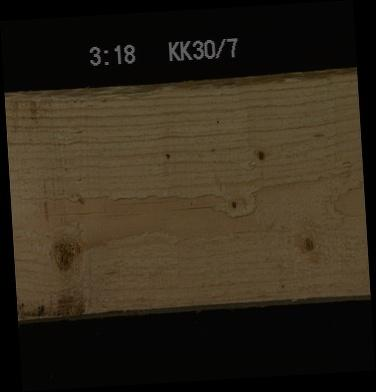dry_knot: (252, 144, 267, 164), (227, 195, 239, 211)
sound_knot: (48, 232, 83, 279), (300, 233, 317, 255)
split: (10, 187, 222, 209)
